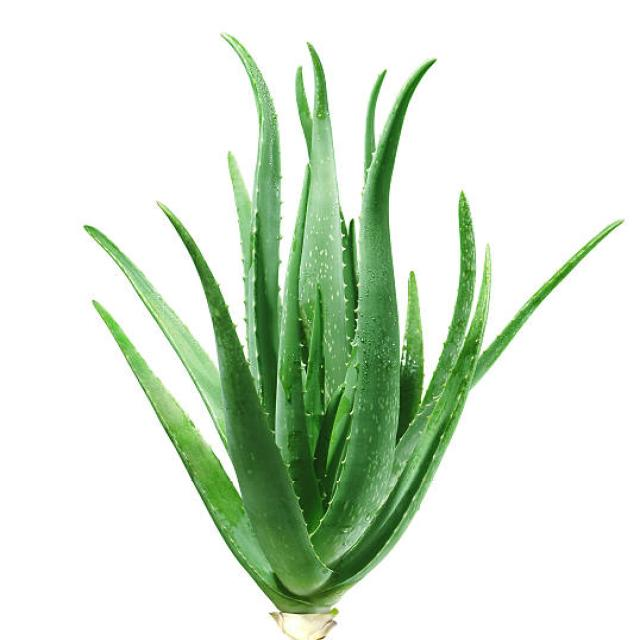AloeVera: (87, 68, 549, 602)
